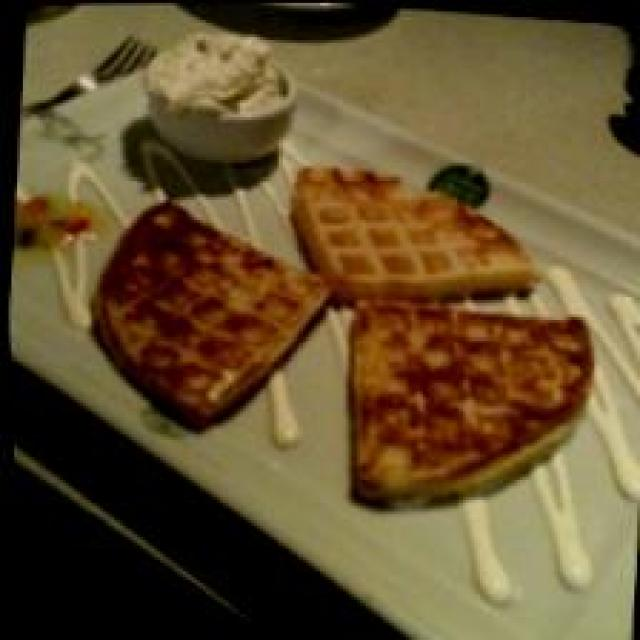Waffles: (77, 135, 617, 536)
